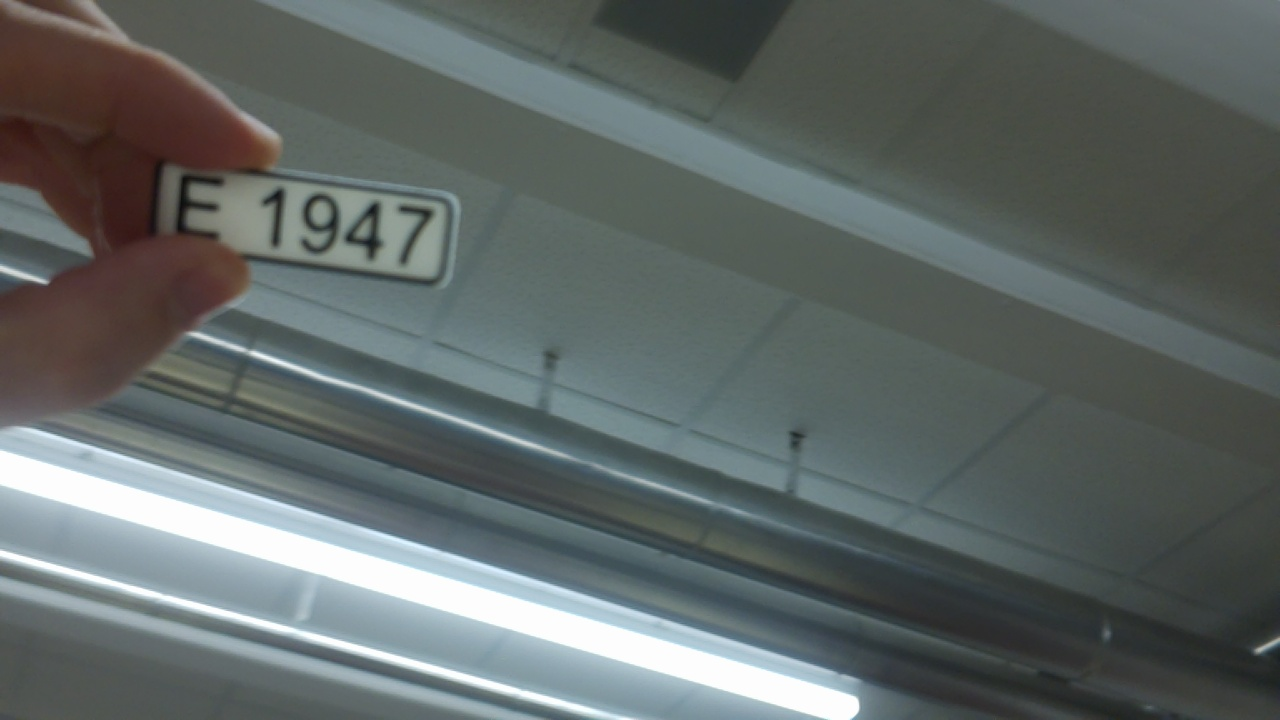license_plate: (140, 146, 467, 297)
